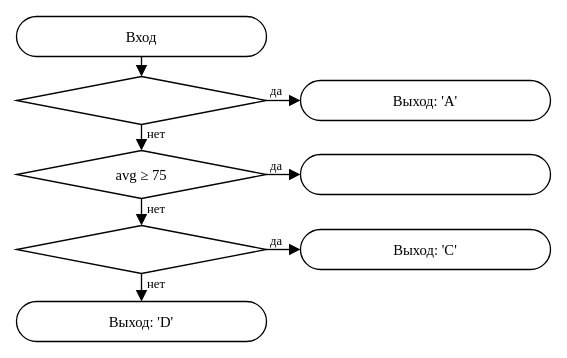
This 567x358 diagram has some shape labels left out. Each missing label, with the centre of its shape:
"avg ≥ 60" belongs at (x=141, y=249).
"avg ≥ 90" belongs at (x=141, y=100).
"Выход: 'B'" belongs at (x=425, y=174).
